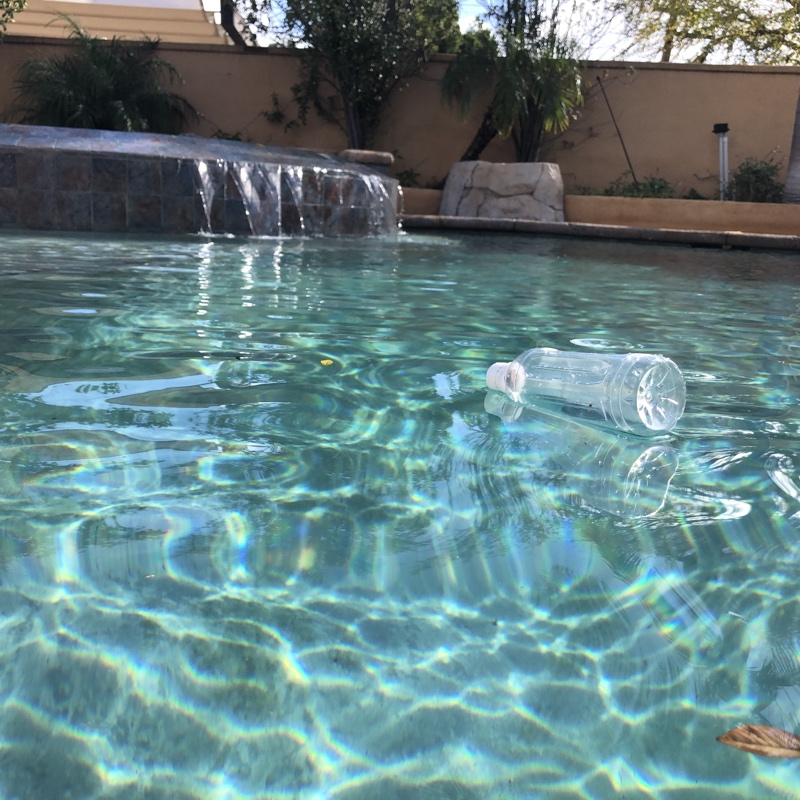Plastic Bottle: (481, 342, 689, 439)
